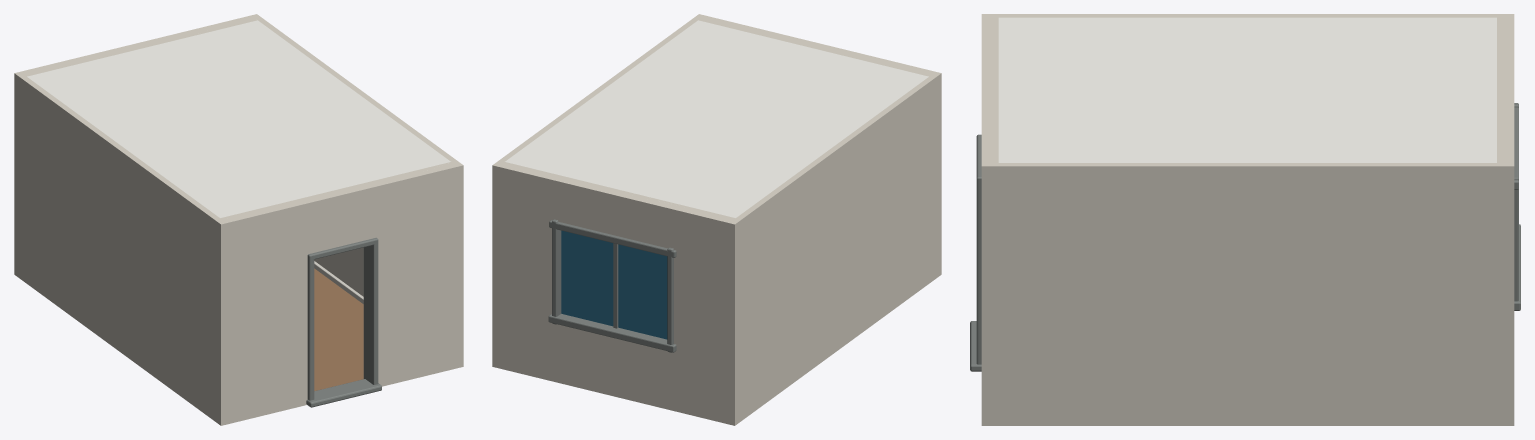
The model's file is bucea_room218_shell.glb.
The picture shows the model from 3 angles, left to right: view 1: azimuth 30°, elevation 25°; view 2: azimuth 150°, elevation 25°; view 3: azimuth 270°, elevation 25°; orthographic projection. The views are drawn at different scales.
Parts seen in each view (by area): view 1: room_shell_envelope, room_ceiling_slab, room_floor_slab, door_jamb_right, door_jamb_left, door_threshold, door_head_trim; view 2: room_shell_envelope, room_ceiling_slab, window_glass, window_sill, window_head, window_frame_right, window_frame_left, window_mullion; view 3: room_shell_envelope, room_ceiling_slab, door_jamb_right, window_frame_right.
Part boxes in pixels (box(x1,y1,x2,y2)): room_shell_envelope: box(14, 14, 463, 425); room_ceiling_slab: box(27, 20, 450, 217); room_floor_slab: box(314, 268, 363, 390); door_jamb_right: box(363, 243, 378, 384); door_jamb_left: box(307, 258, 314, 400); door_threshold: box(306, 379, 381, 407); door_head_trim: box(307, 237, 378, 259); room_shell_envelope: box(492, 14, 941, 425); room_ceiling_slab: box(505, 20, 928, 217); window_glass: box(561, 230, 667, 339); window_sill: box(548, 313, 676, 352); window_head: box(549, 220, 676, 257); window_frame_right: box(552, 219, 561, 324); window_frame_left: box(667, 247, 673, 352); window_mullion: box(613, 243, 618, 328); room_shell_envelope: box(981, 14, 1514, 425); room_ceiling_slab: box(998, 17, 1496, 162); door_jamb_right: box(976, 182, 981, 364); window_frame_right: box(1514, 175, 1518, 301).
Size of the model in its own units: 3.78 by 3 by 5.77.
